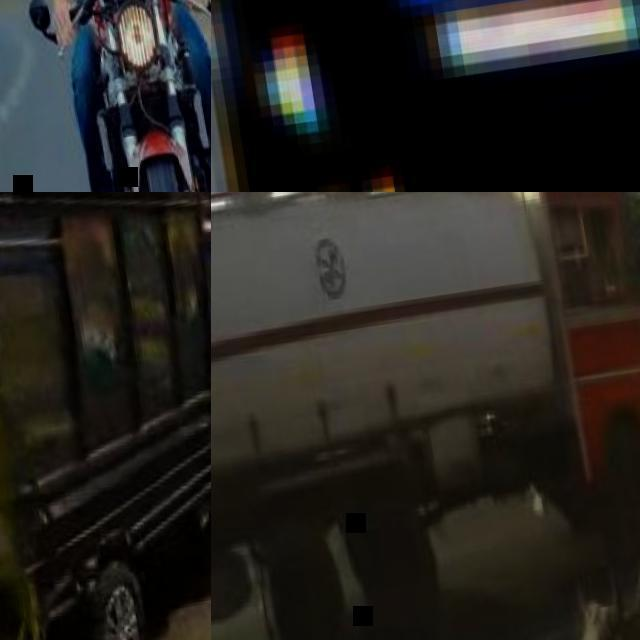car: (13, 383, 216, 639), (97, 3, 246, 185)
